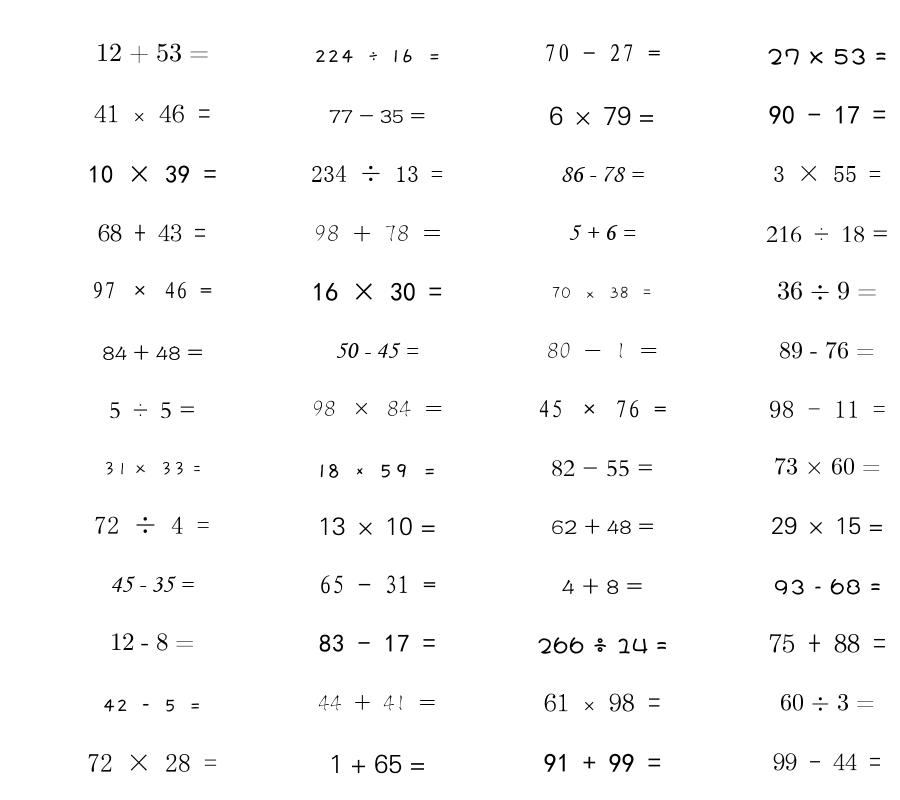MQ: (312, 282, 442, 302), (88, 165, 217, 184), (96, 43, 209, 64), (769, 105, 886, 125), (769, 633, 886, 653), (87, 754, 217, 772), (538, 400, 667, 418), (311, 165, 443, 182), (318, 517, 436, 536), (312, 400, 443, 417), (537, 637, 668, 654), (94, 104, 211, 123), (319, 575, 436, 594), (544, 693, 661, 712), (544, 753, 661, 772), (92, 281, 212, 299), (314, 225, 441, 242), (549, 106, 655, 126), (544, 44, 661, 62), (769, 400, 886, 418), (319, 634, 436, 652), (766, 226, 889, 243), (94, 516, 210, 534), (767, 48, 887, 65), (771, 517, 884, 535), (98, 224, 206, 242), (773, 753, 881, 771), (329, 754, 426, 774), (774, 457, 881, 475), (777, 281, 877, 300), (318, 695, 436, 711), (547, 342, 658, 359), (773, 165, 881, 182), (774, 578, 881, 595), (318, 463, 437, 478), (314, 49, 441, 63), (551, 460, 654, 477), (551, 518, 654, 535), (779, 341, 875, 359), (102, 344, 203, 361), (780, 693, 875, 711), (110, 633, 194, 651), (103, 461, 202, 476), (109, 402, 196, 419), (562, 578, 643, 595), (329, 109, 425, 123), (560, 166, 644, 182), (335, 342, 419, 358), (110, 576, 194, 592), (551, 286, 653, 299), (102, 699, 202, 712), (568, 224, 636, 240)
